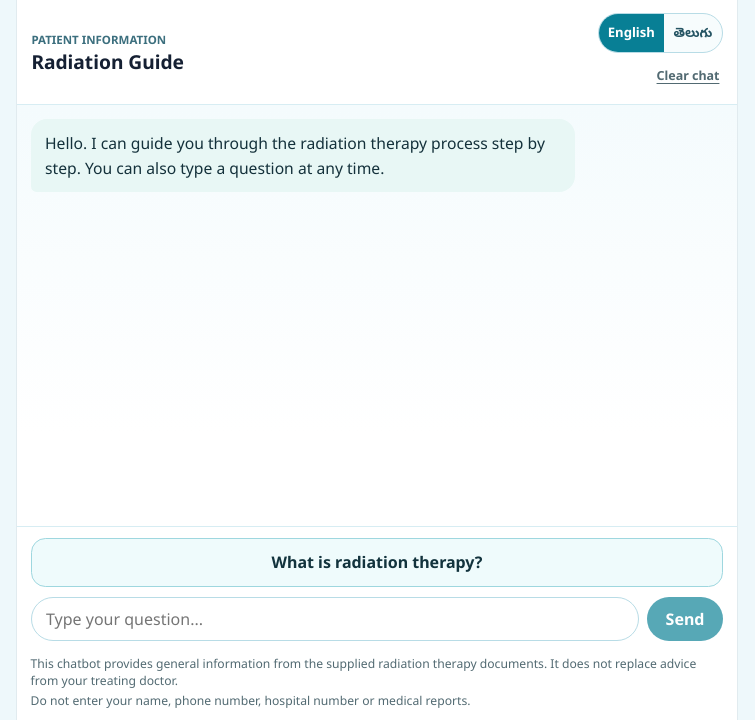
Scenario: App guided radiation journey UI › submits typed mixed-language questions without changing the guided stage
The width and height of the screenshot is (755, 720).
Click the button "What is radiation therapy?". click: (377, 562)
box: [31,538,723,587]
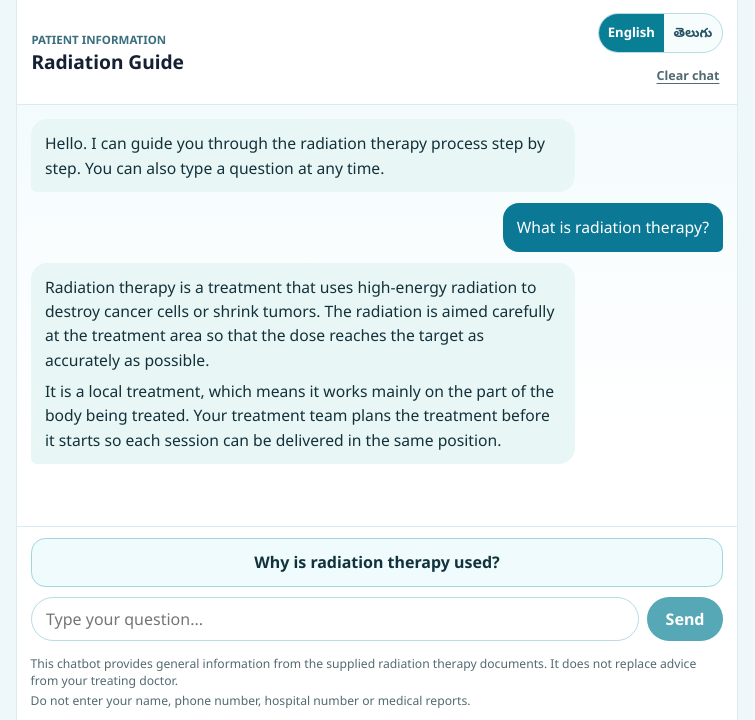
Expected: the button "Why is radiation therapy used?" is shown, [31,538,723,587]
Type "Radiation mask enduku vestaru?" into the field labelled "Type your question...". click: (335, 619)
box: [31,597,639,641]
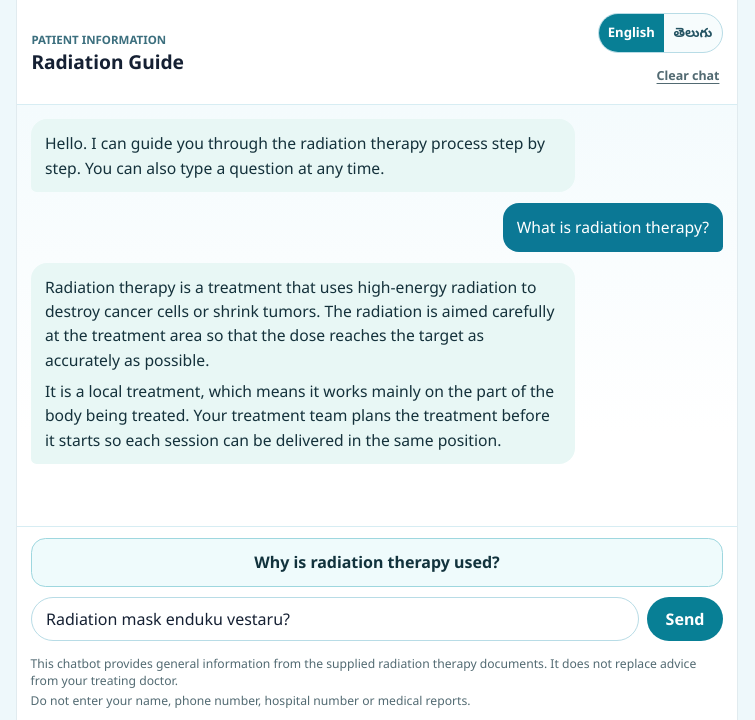
Click the button "Send". click: (685, 619)
box: [647,597,723,641]
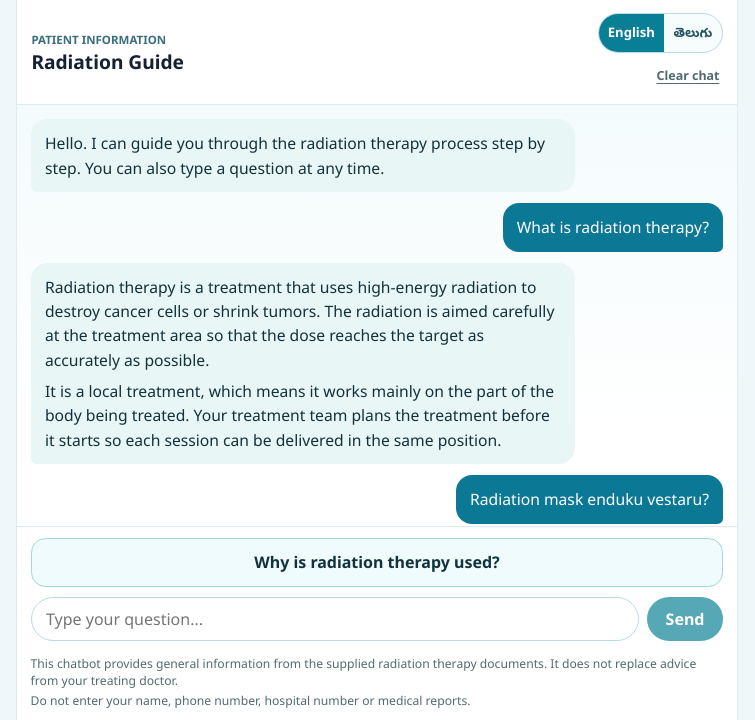
Expected: the field labelled "Type your question..." is enabled, [31,597,639,641]
Expected: the button "Why is radiation therapy used?" is shown, [31,538,723,587]
Expected: the text "Radiation mask enduku vestaru?" is shown, [470,487,709,512]
